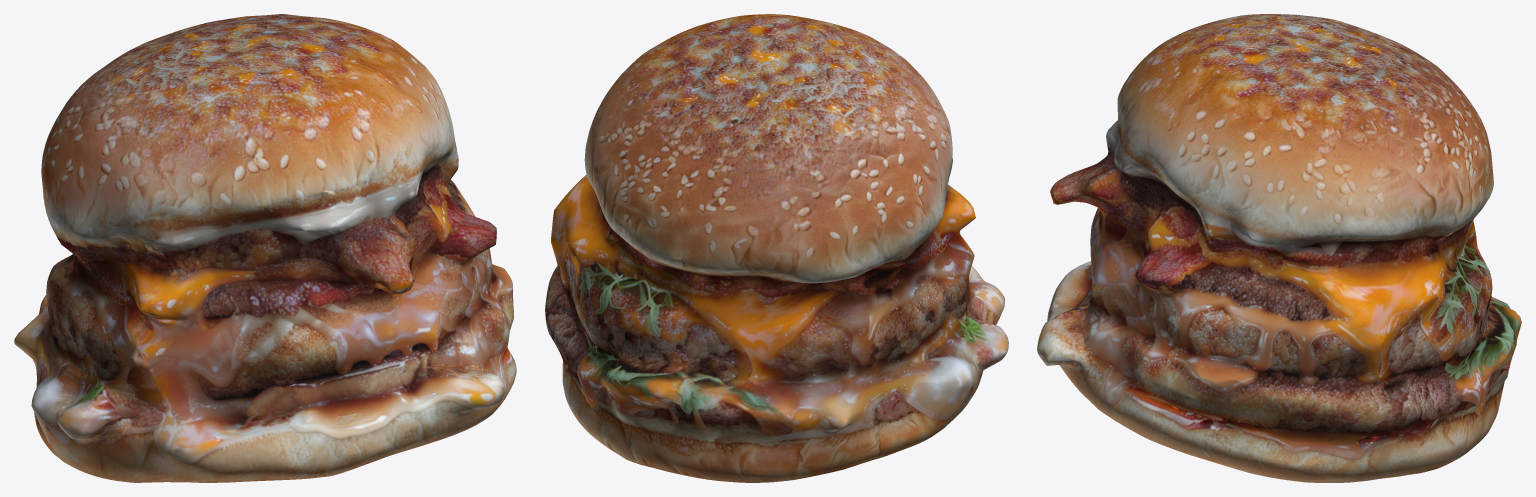
The model's file is Hamburger.glb.
The picture shows the model from 3 angles, left to right: view 1: azimuth 30°, elevation 25°; view 2: azimuth 150°, elevation 25°; view 3: azimuth 270°, elevation 25°; orthographic projection. The views are drawn at different scales.
Bounding box in the file's own units: 1.2 × 1.04 × 1.19.
Materials: 1 (1 with a texture image).
